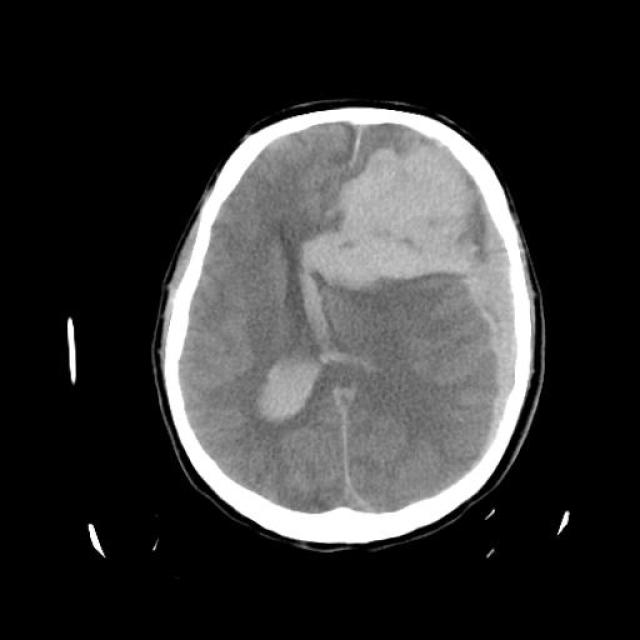Intraparenchymal: (290, 142, 504, 280)
Intraventricular: (236, 344, 350, 447), (284, 253, 368, 376)
Subdural: (484, 211, 532, 464)
